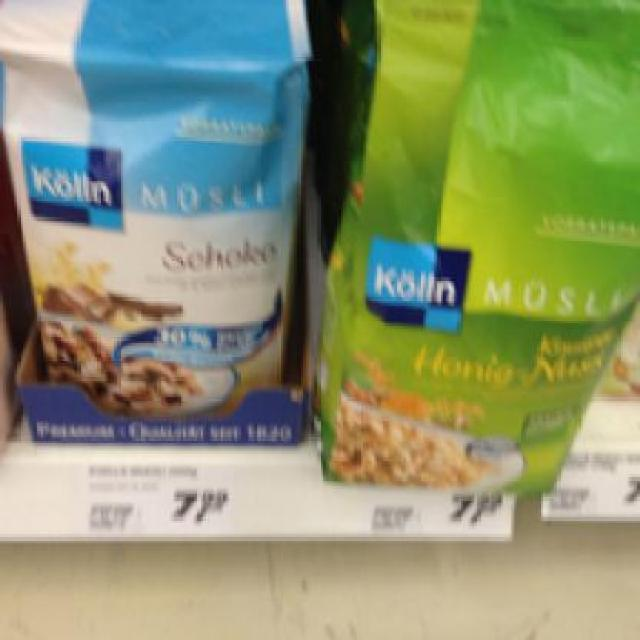Cereal: (317, 0, 637, 486), (0, 0, 309, 409)
